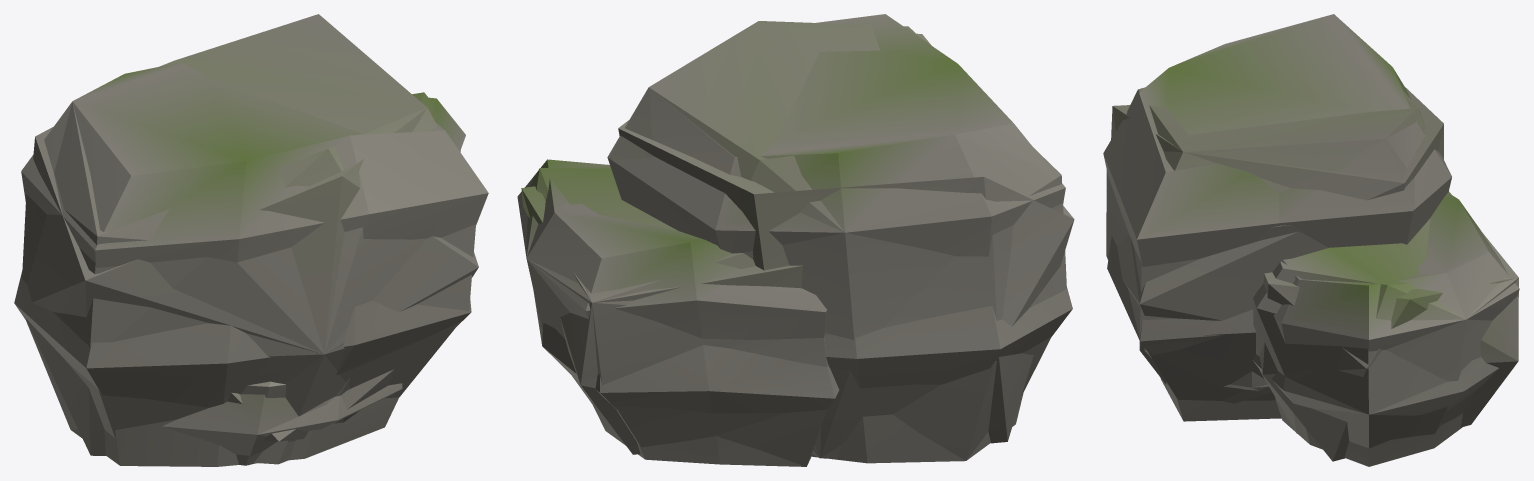
Rendered from BoulderB.preintegration.glb.
The picture shows the model from 3 angles, left to right: view 1: azimuth 30°, elevation 25°; view 2: azimuth 150°, elevation 25°; view 3: azimuth 270°, elevation 25°; orthographic projection. The views are drawn at different scales.
Visible parts, largest first — view 1: BoulderB_L0, BoulderB_L1, BoulderB_L2; view 2: BoulderB_L0, BoulderB_L1, BoulderB_L2; view 3: BoulderB_L0, BoulderB_L1, BoulderB_L2.
Boxes of the visible parts, box(x1,y1,x2,y2) form: BoulderB_L0: box(14, 62, 488, 466); BoulderB_L1: box(22, 14, 475, 464); BoulderB_L2: box(26, 108, 478, 455); BoulderB_L0: box(517, 14, 1072, 466); BoulderB_L1: box(526, 21, 1066, 466); BoulderB_L2: box(521, 33, 1074, 457); BoulderB_L0: box(1103, 14, 1519, 466); BoulderB_L1: box(1106, 87, 1518, 448); BoulderB_L2: box(1106, 87, 1518, 461).
Bounding box in the file's own units: 1.8 × 1.21 × 1.5.
